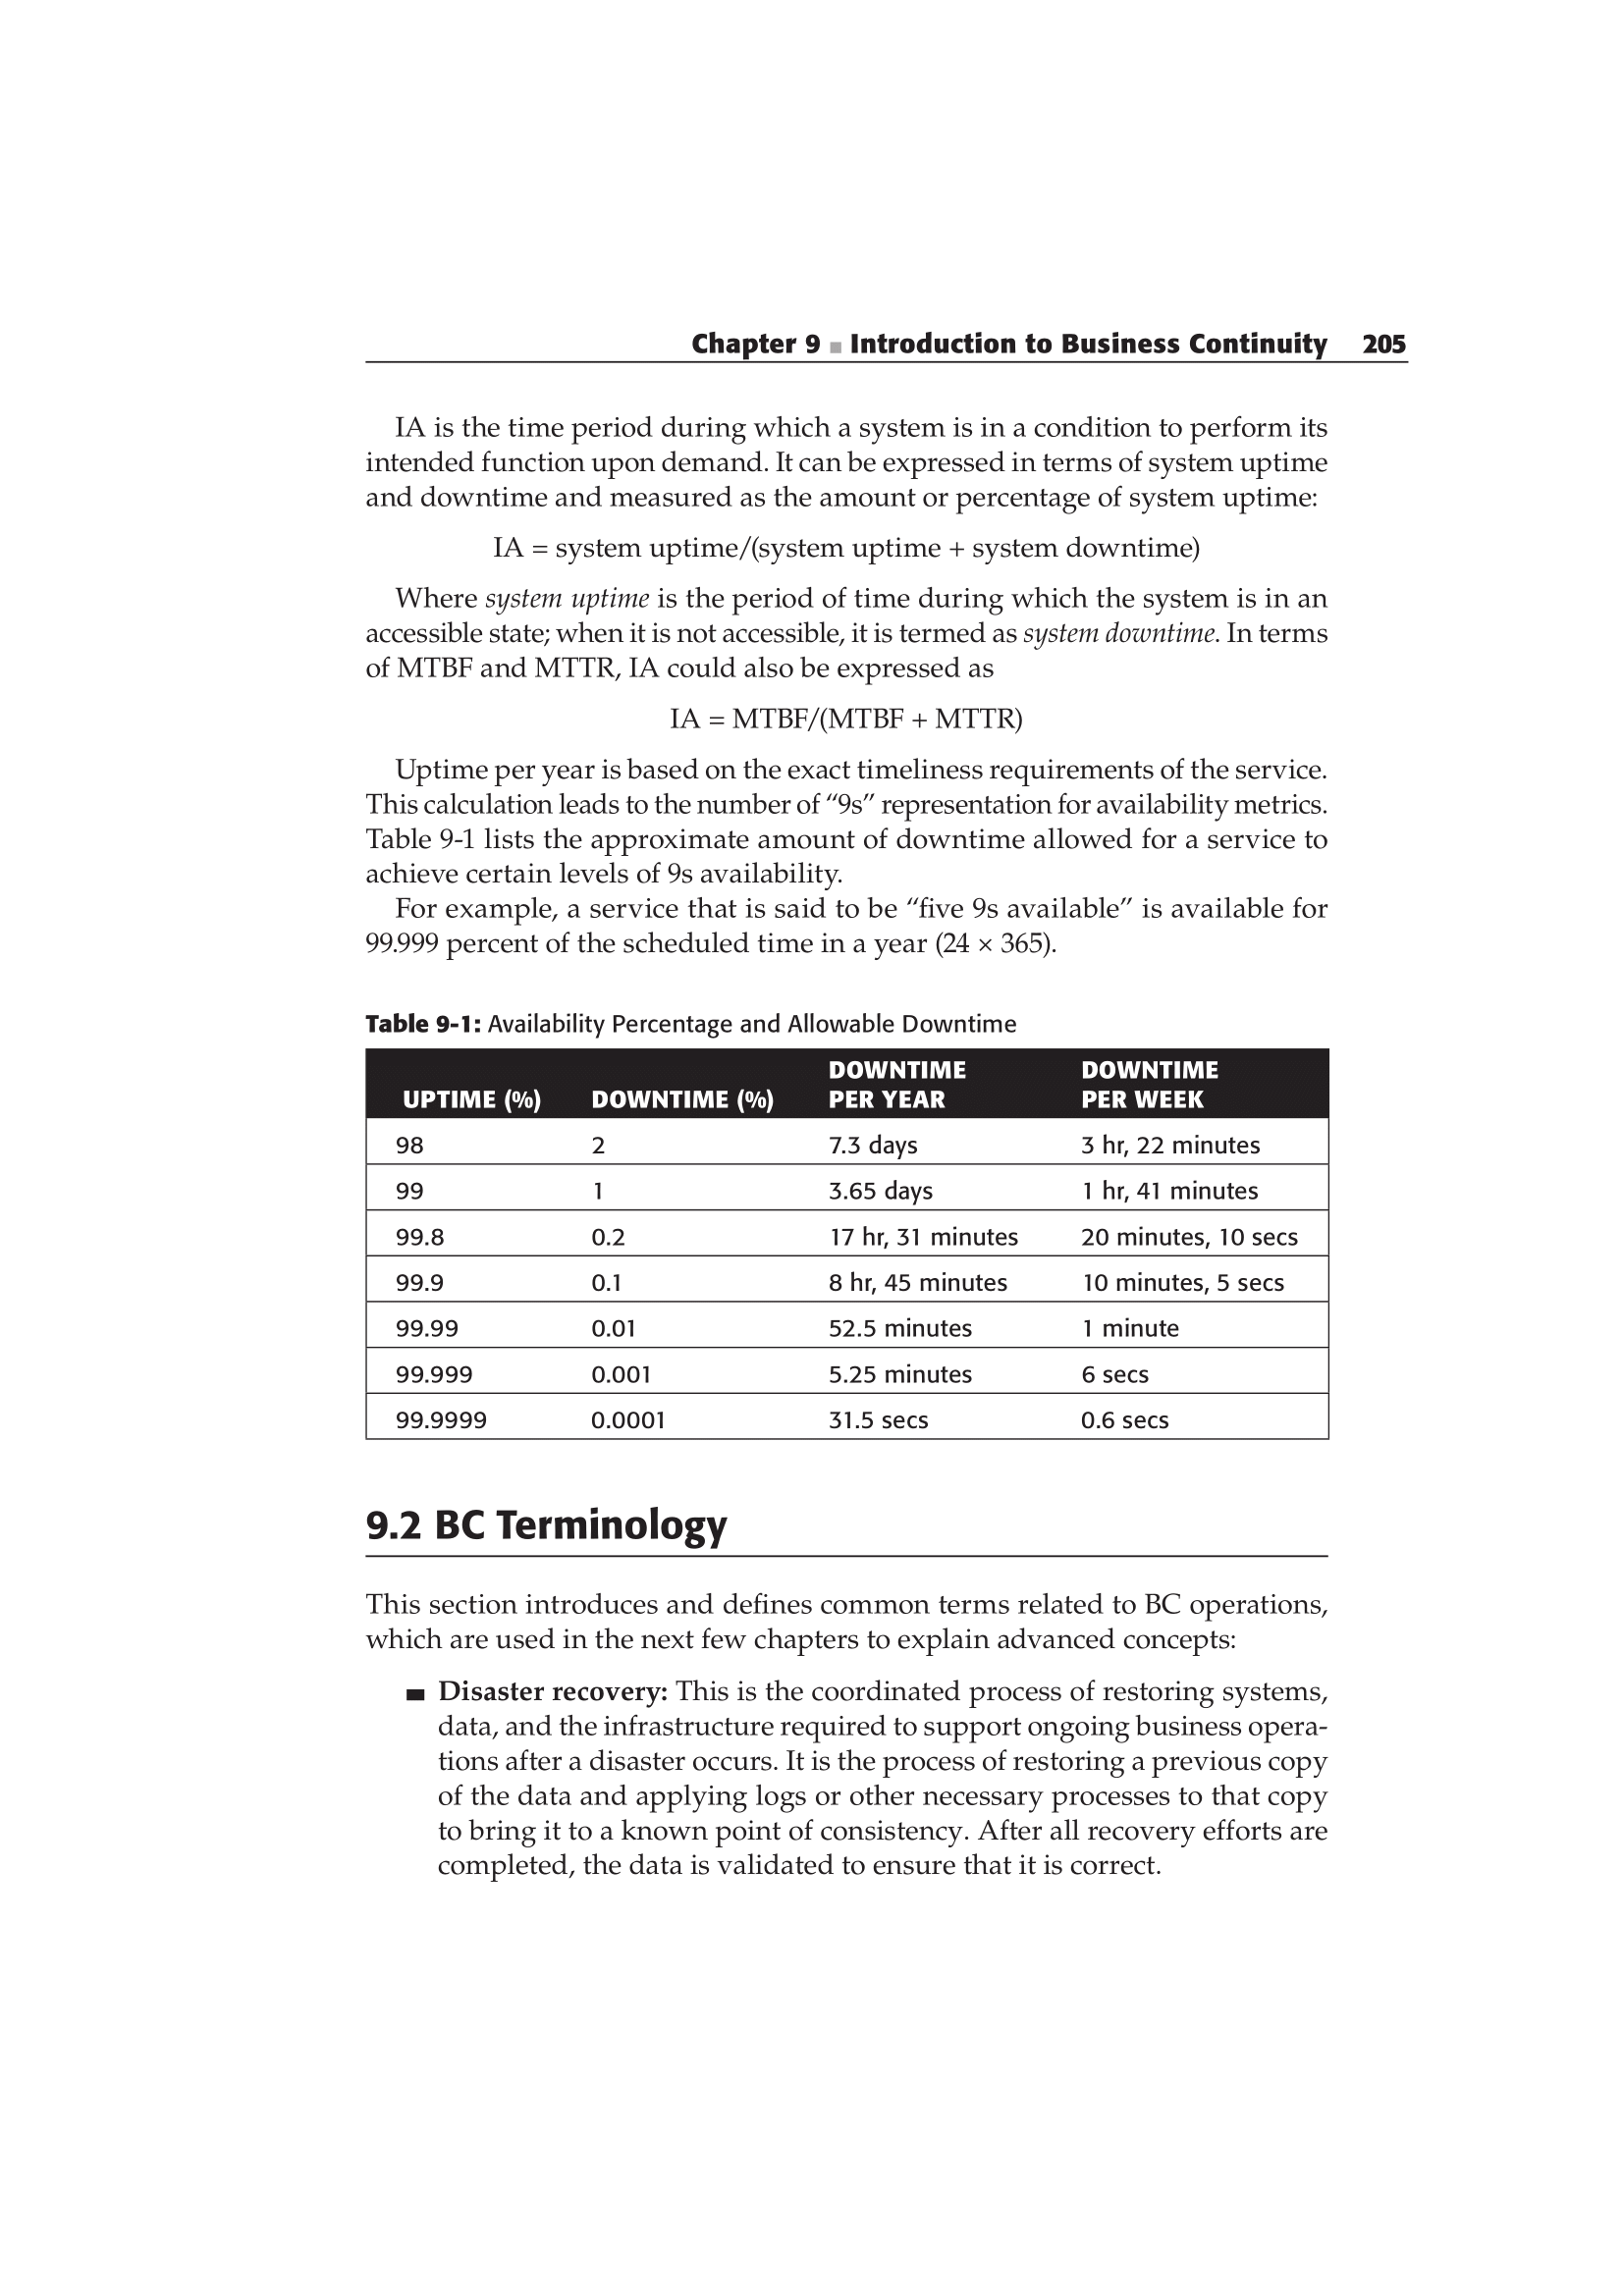Paragraph: (425, 1675, 1342, 1891), (348, 388, 1338, 562), (357, 739, 1342, 890), (351, 565, 1328, 693), (351, 1575, 1347, 1671), (351, 890, 1324, 976), (676, 302, 1433, 365), (348, 1489, 776, 1557), (365, 1004, 1059, 1041), (653, 702, 1059, 748), (1077, 1206, 1324, 1252), (1059, 1264, 1310, 1306), (1087, 1118, 1302, 1164), (580, 1076, 790, 1122), (817, 1058, 991, 1113), (1073, 1164, 1279, 1206), (1054, 1306, 1228, 1355), (1068, 1058, 1237, 1104), (810, 1166, 957, 1213), (829, 1223, 1035, 1257), (826, 1266, 1019, 1299), (1036, 1355, 1179, 1392), (1050, 1392, 1191, 1429), (822, 1116, 922, 1166), (820, 1311, 980, 1341), (820, 1404, 936, 1439), (817, 1364, 982, 1388), (397, 1095, 553, 1118), (395, 1403, 492, 1439), (578, 1359, 676, 1394), (371, 1320, 474, 1350), (383, 1266, 455, 1302), (393, 1362, 492, 1388), (587, 1404, 673, 1434), (383, 1222, 464, 1250), (573, 1215, 641, 1246), (578, 1127, 618, 1171), (583, 1313, 641, 1343), (578, 1259, 625, 1294), (578, 1174, 627, 1206), (388, 1132, 432, 1157), (385, 1178, 429, 1197)
